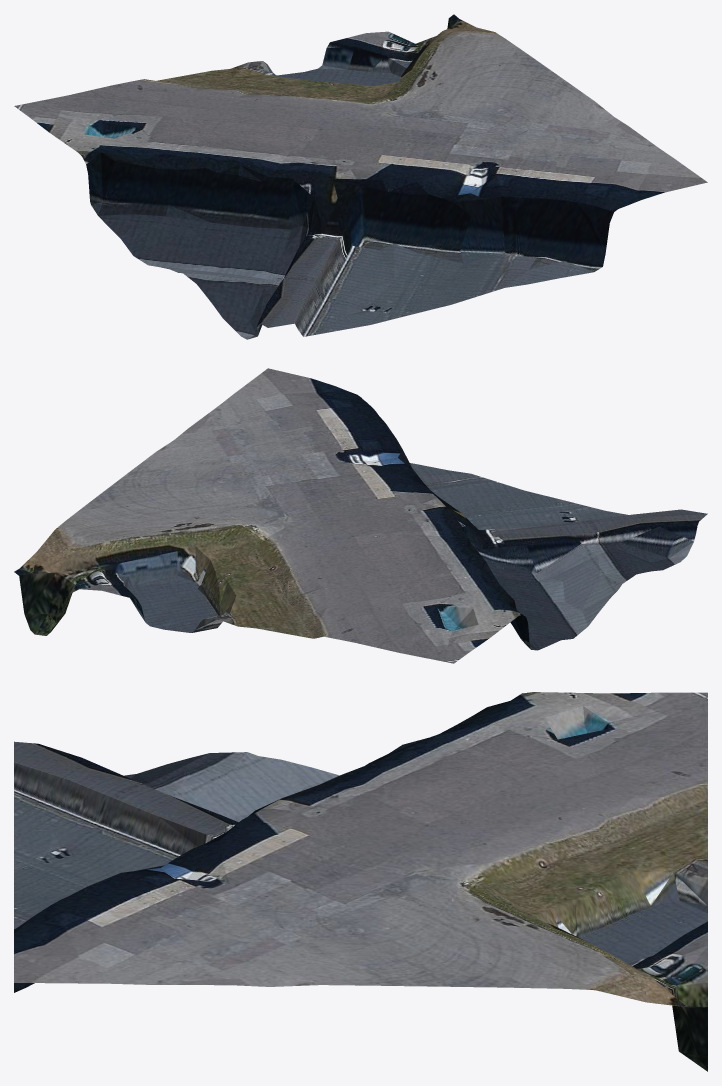
The model's file is map_15_8186_13784.dae.
3 renders of one model, top to bottom at view 1: azimuth 30°, elevation 25°; view 2: azimuth 150°, elevation 25°; view 3: azimuth 270°, elevation 25°, orthographic. The views are drawn at different scales.
Visible parts, largest first — view 1: Ter0; view 2: Ter0; view 3: Ter0.
Boxes of the visible parts, x1,y1,x2,y2 form: Ter0: [14, 14, 707, 339]; Ter0: [14, 368, 707, 663]; Ter0: [14, 692, 707, 1071].
Bounding box in the file's own units: 63.88 × 63.88 × 10.75.
3 materials, 3 textured.
